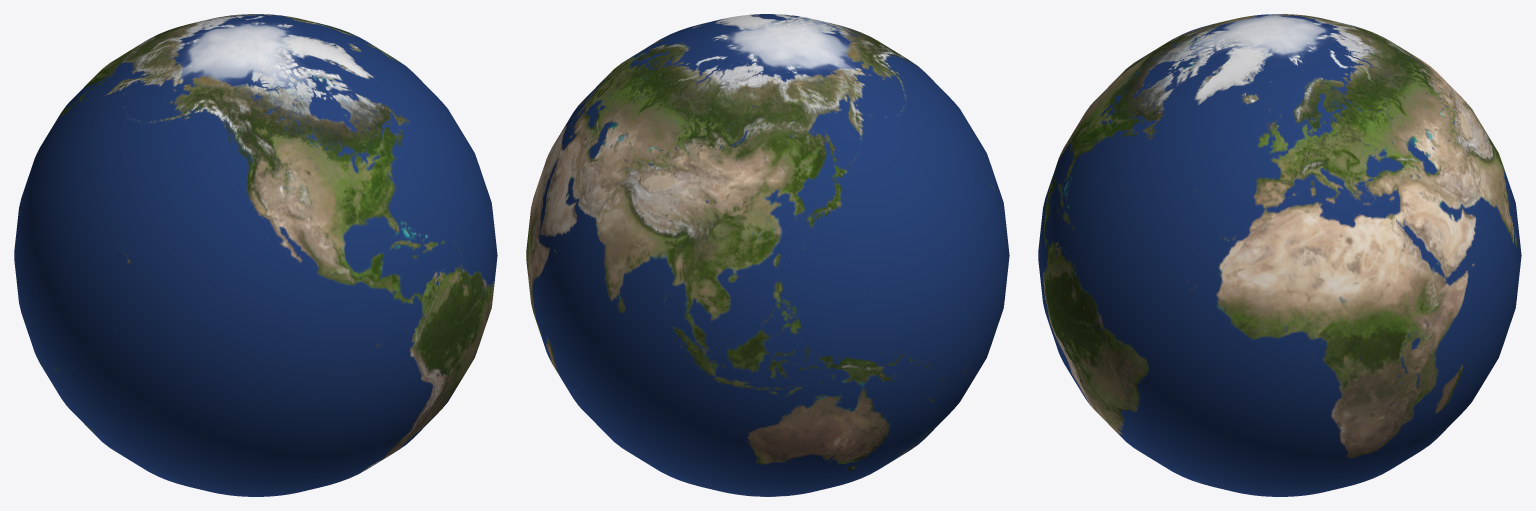
The model's file is earth.glb.
3 renders of one model, left to right at view 1: azimuth 30°, elevation 25°; view 2: azimuth 150°, elevation 25°; view 3: azimuth 270°, elevation 25°, orthographic.
Visible parts, largest first — view 1: Сфера.001; view 2: Сфера.001; view 3: Сфера.001.
Part boxes in pixels (box(x1,y1,x2,y2)): Сфера.001: box(14, 14, 497, 496); Сфера.001: box(526, 14, 1009, 496); Сфера.001: box(1038, 14, 1521, 496).
Bounding box in the file's own units: 3.57 × 3.57 × 3.57.
1 material, 1 textured.
